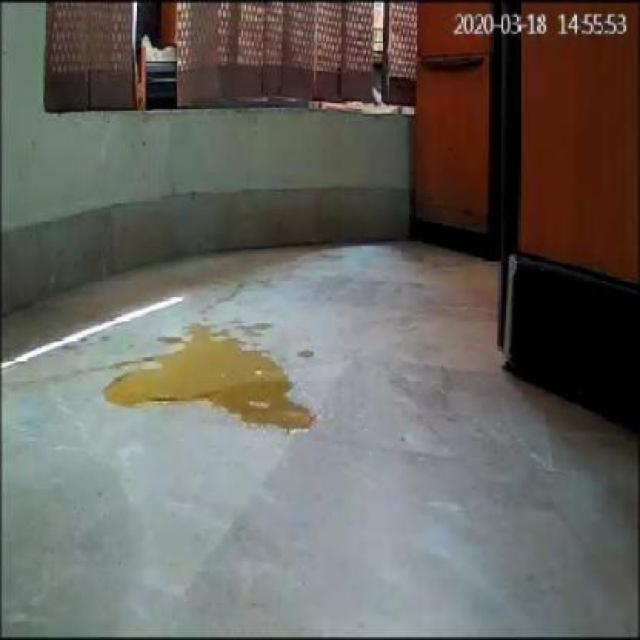spillage: (101, 327, 314, 432)
